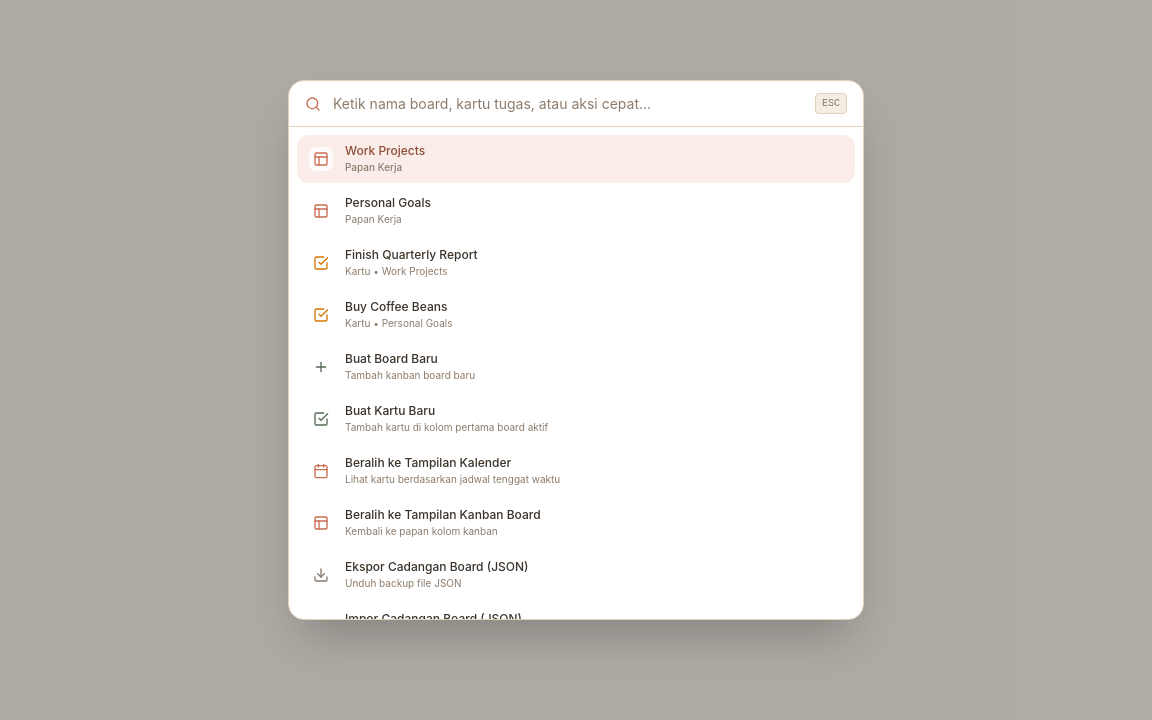
Test: Bohemian Command Palette (Ctrl+K / Ctrl+P) › filters and displays cards when searching by tag
Step 1. Type "Work" into the field with placeholder "Ketik nama board, kartu tugas, atau aksi cepat..." → [568, 104], box [333,94,803,114]
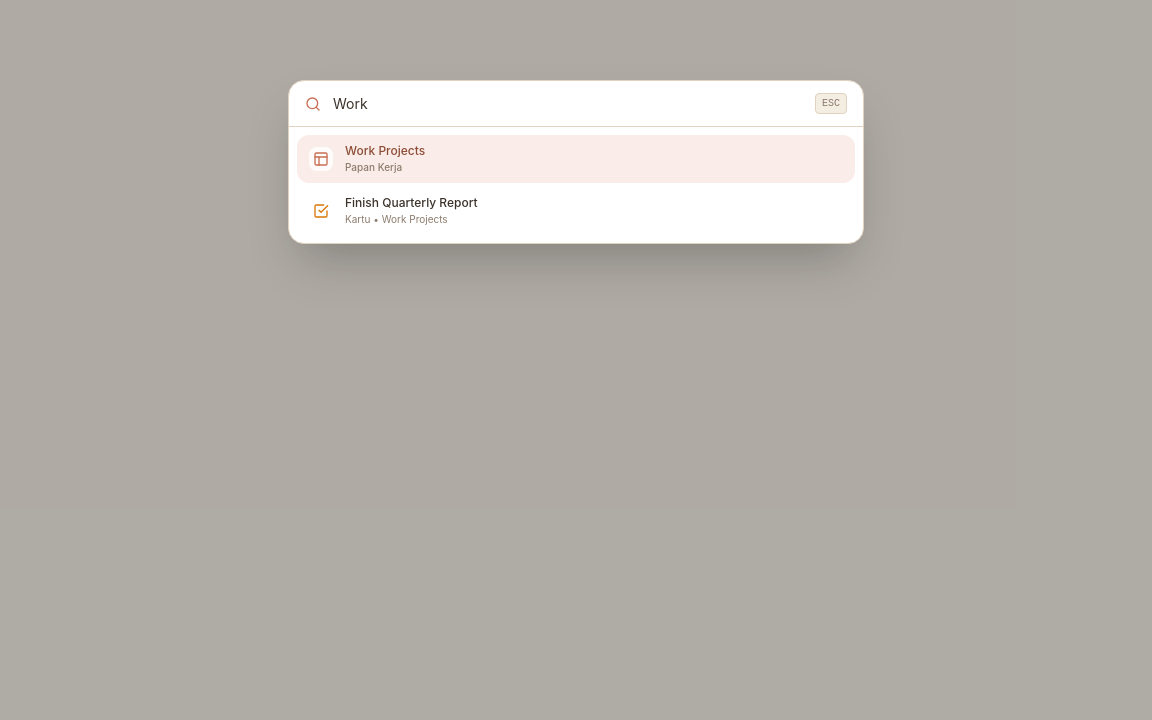
Expected: the text "Finish Quarterly Report" is shown, [345,195,478,210]
Expected: the text "Buy Coffee Beans" is gone
